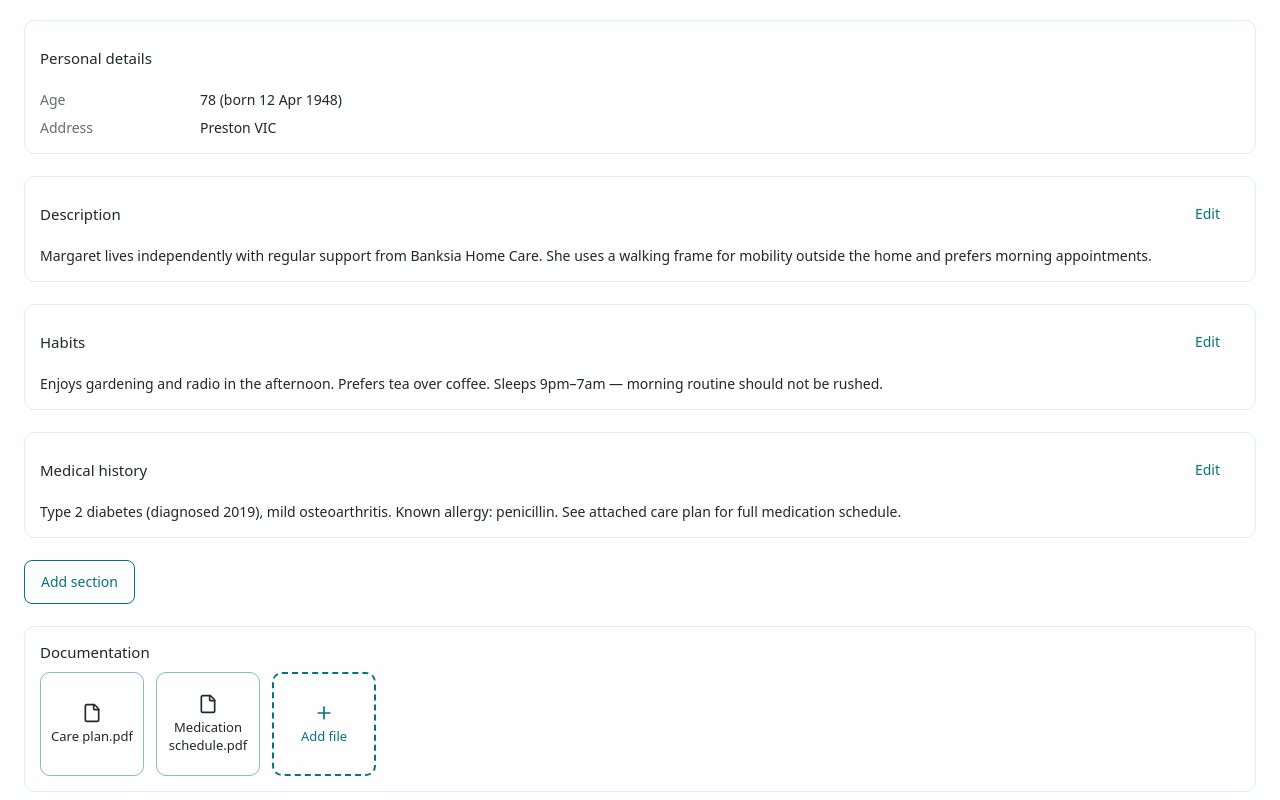
Scenario: [FAM-UI-04] Family Info › [FAM-UI-04][AC-02] Edit on Habits shows a textarea holding the current text, with Save and Cancel
Click the button with aria-label "Edit Habits" at (1207, 342), box [1175,320,1240,364]
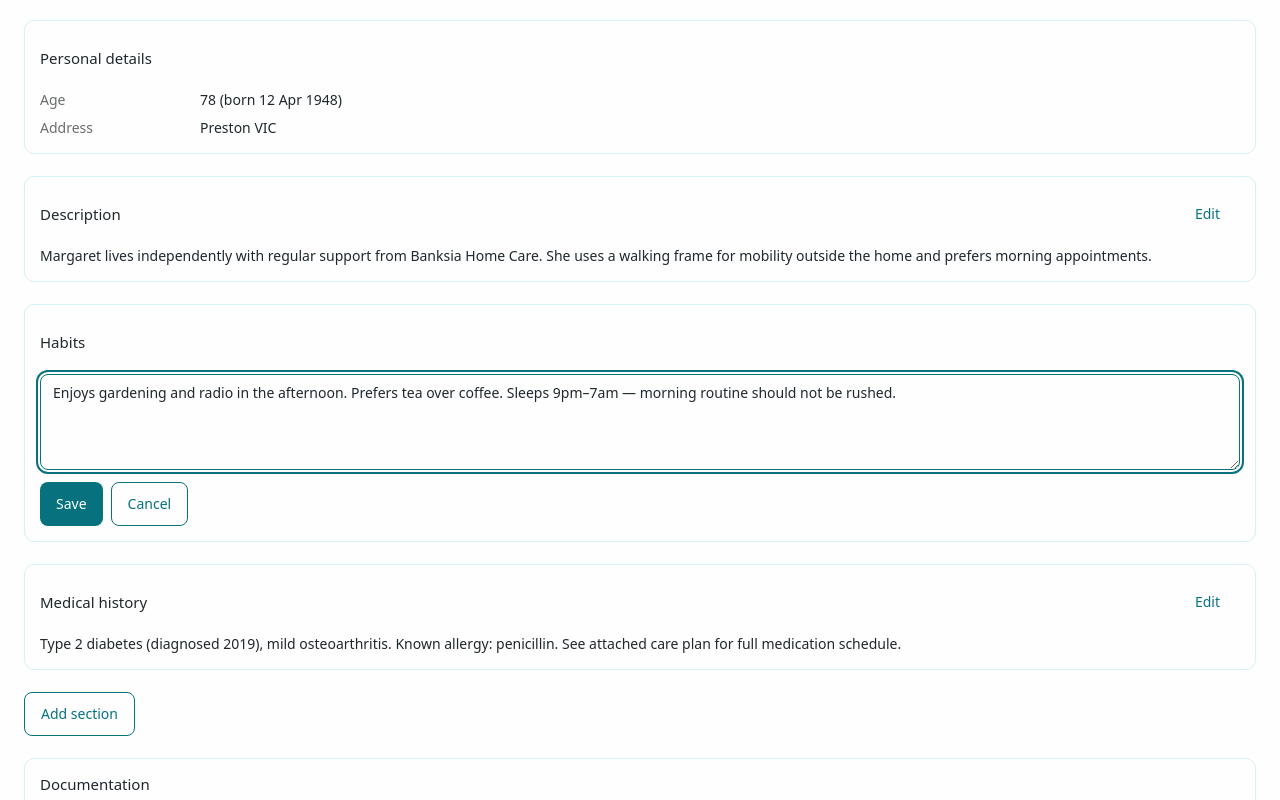
Check: the text box named "habits" holds "Enjoys gardening and radio in the afternoon. Prefers tea over coffee. Sleeps 9pm–7am — morning routine should not be rushed.", box [40,374,1240,470]
Check: the button "Save" is shown, box [40,482,103,526]
Check: the button "Cancel" is shown, box [111,482,188,526]
